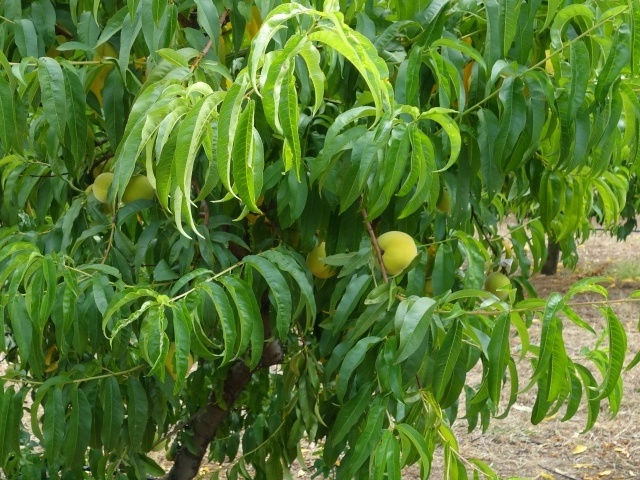peach: (373, 227, 420, 279), (303, 236, 336, 284), (122, 173, 156, 211), (87, 168, 122, 204), (481, 265, 513, 302)
